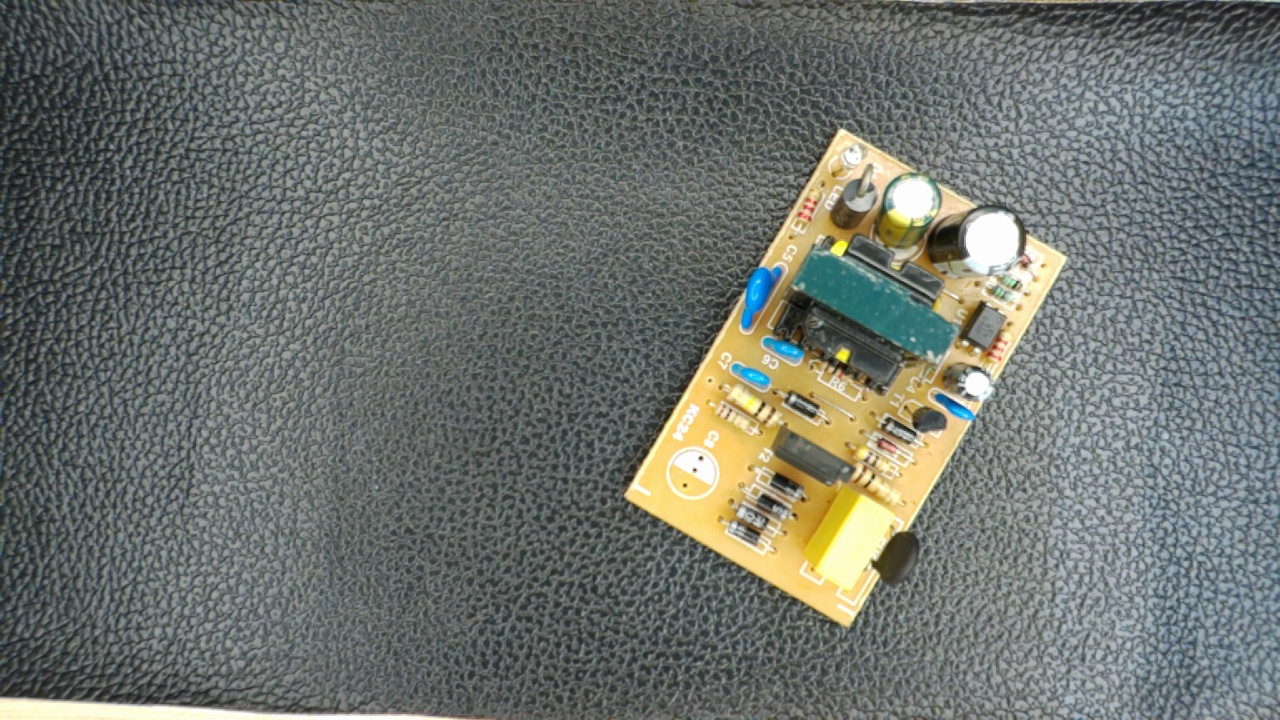fuse: (863, 519, 927, 591)
mov: (734, 257, 789, 333)
optocoupler: (959, 300, 1011, 357)
